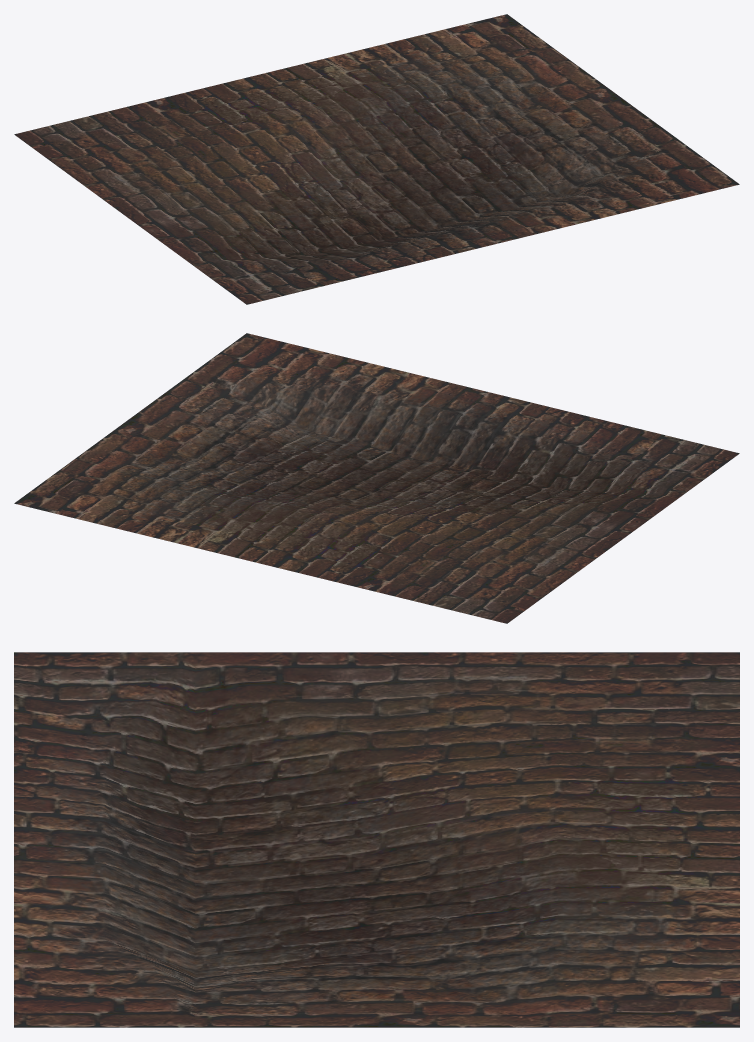
The model's file is BrickFloor_5.FBX.
3 views of the same model, one above another, from view 1: azimuth 30°, elevation 25°; view 2: azimuth 150°, elevation 25°; view 3: azimuth 270°, elevation 25° (orthographic). The views are drawn at different scales.
Visible parts, largest first — view 1: BrickFloor_5; view 2: BrickFloor_5; view 3: BrickFloor_5.
Boxes of the visible parts, left/top/right/bottom form: BrickFloor_5: left=14, top=14, right=739, bottom=304; BrickFloor_5: left=14, top=333, right=739, bottom=623; BrickFloor_5: left=14, top=652, right=739, bottom=1027.
Size of the model in its own units: 7919 by 459 by 6476.
1 material, 1 textured.
